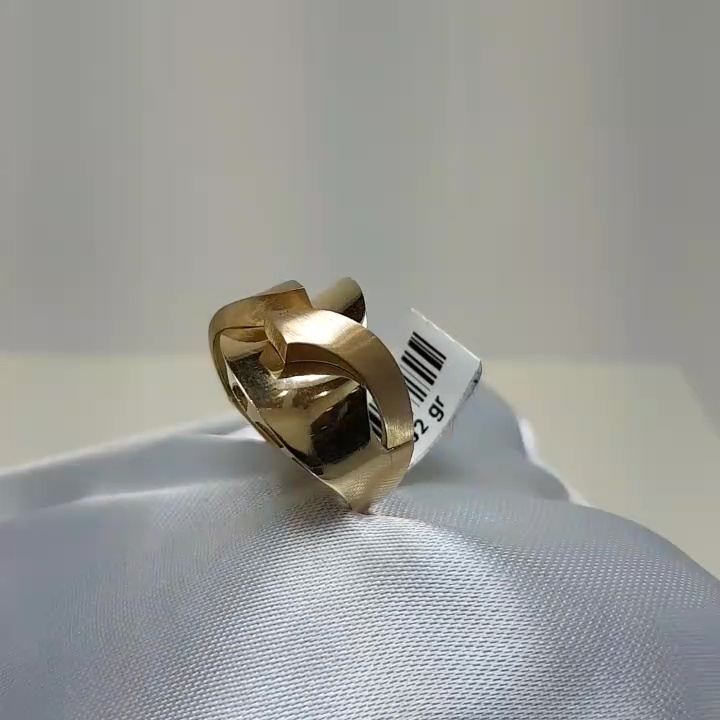Ring 4: (195, 267, 425, 521)
